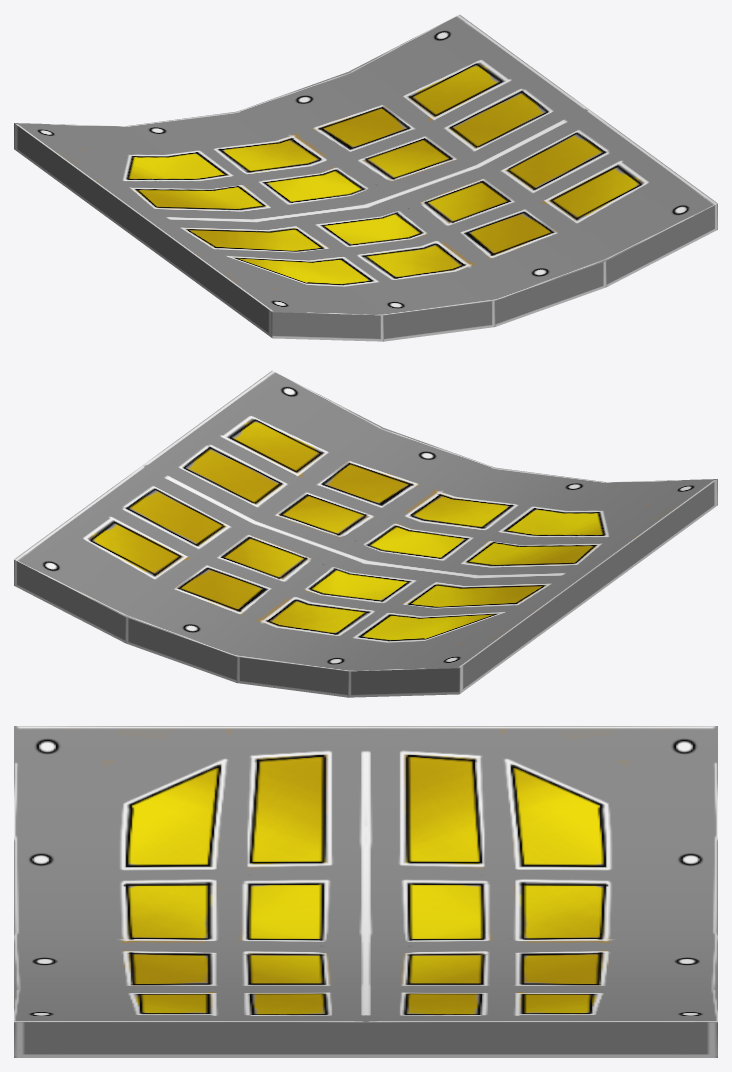
The model's file is space_floor_dpath.gltf.
3 renders of one model, top to bottom at view 1: azimuth 30°, elevation 25°; view 2: azimuth 150°, elevation 25°; view 3: azimuth 270°, elevation 25°, orthographic. The views are drawn at different scales.
Visible parts, largest first — view 1: space_floor_dpath_glb; view 2: space_floor_dpath_glb; view 3: space_floor_dpath_glb.
Boxes of the visible parts, bbox=[...] form: space_floor_dpath_glb: bbox=[14, 14, 717, 341]; space_floor_dpath_glb: bbox=[14, 370, 717, 697]; space_floor_dpath_glb: bbox=[14, 726, 717, 1057].
Size of what is drawn, in the model's own units: 3.98 by 0.591 by 4.
Materials: 1 (1 with a texture image).
